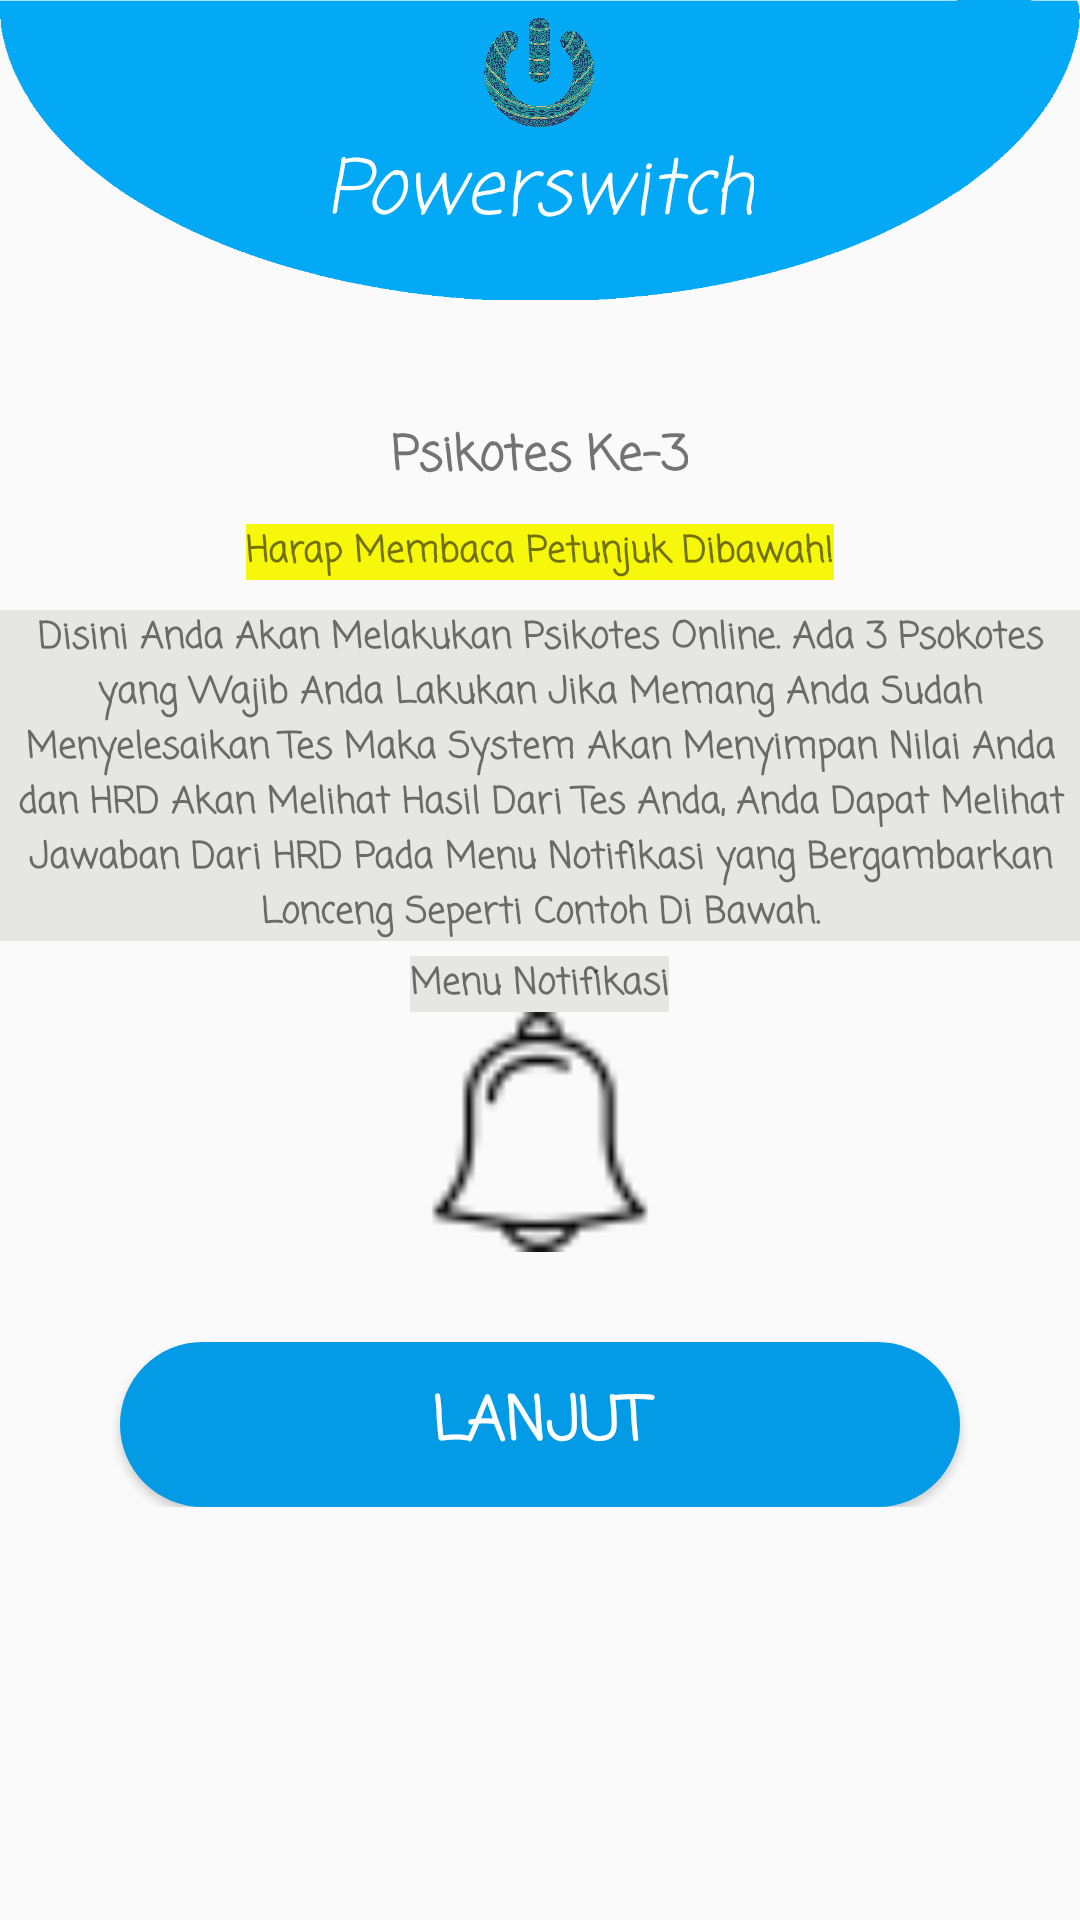

Icon bounding boxes for this 1080×1920 phone screenshot, format (left=x1, top=y1, right=x2, bottom=y2):
alarm: (left=432, top=1012, right=648, bottom=1252)
